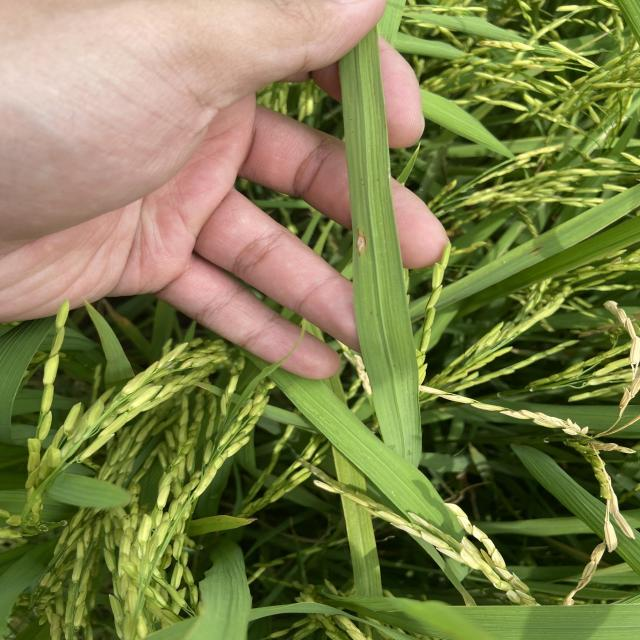Dao on: (355, 226, 367, 258)
